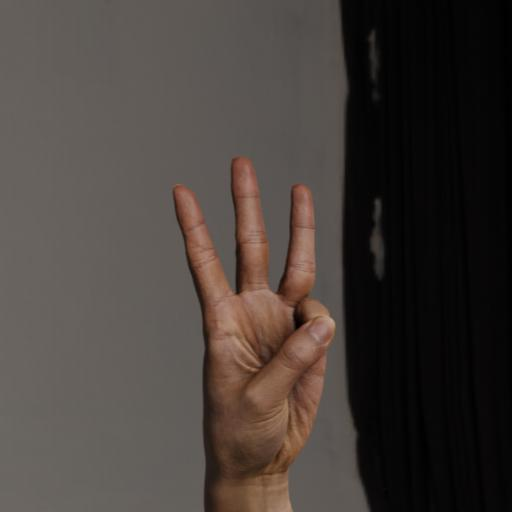W: (164, 148, 340, 477)
